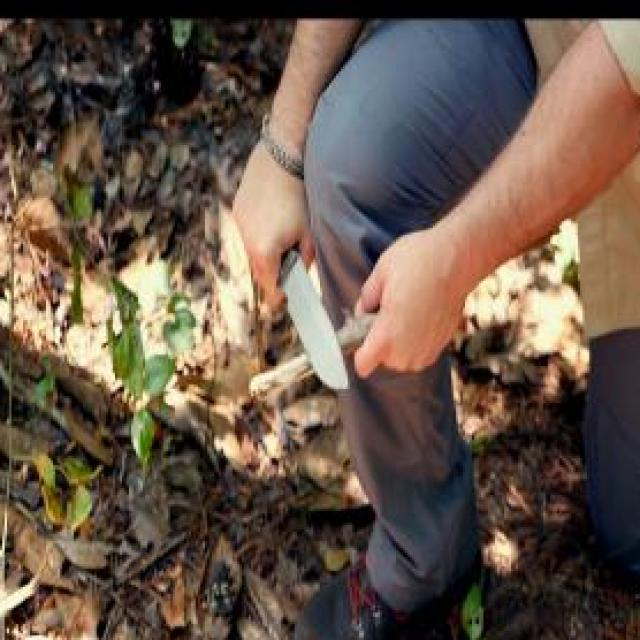knife: (251, 216, 351, 398)
